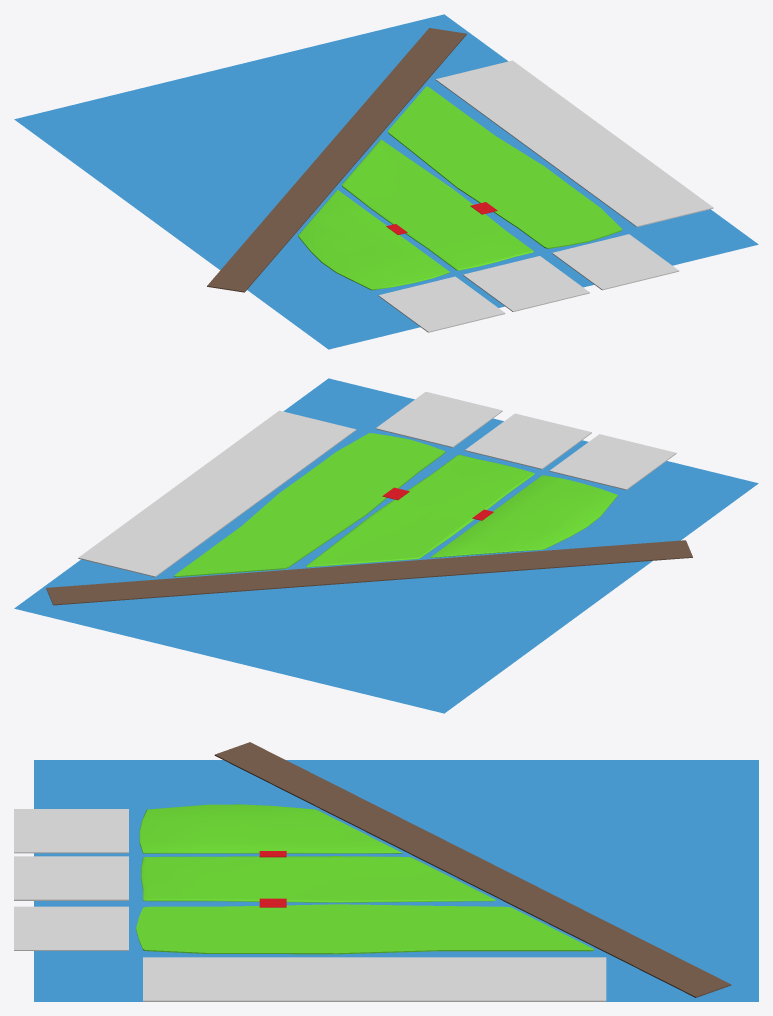
File: Polder_Map_V6.fbx
The picture shows the model from 3 angles, top to bottom: view 1: azimuth 30°, elevation 25°; view 2: azimuth 150°, elevation 25°; view 3: azimuth 270°, elevation 25°; orthographic projection. The views are drawn at different scales.
Parts seen in each view (by area): view 1: Water, Landje_03, Landje_03.004, Weg, Landje_03.002, Landje_03.003, Landje_03.001; view 2: Water, Landje_03, Landje_03.004, Weg, Landje_03.001, Landje_03.002, Landje_03.003; view 3: Water, Landje_03, Landje_03.004, Weg, Landje_03.003, Landje_03.001, Landje_03.002.
Part boxes in pixels (x1,y1,x2,y2): Water: (14,14,758,349); Landje_03: (298,86,622,290); Landje_03.004: (435,60,713,227); Weg: (207,28,466,292); Landje_03.002: (552,234,679,290); Landje_03.003: (378,276,505,332); Landje_03.001: (463,256,589,311); Water: (14,378,758,713); Landje_03: (174,433,617,577); Landje_03.004: (78,410,356,577); Weg: (46,540,692,605); Landje_03.001: (465,413,591,469); Landje_03.002: (375,392,502,447); Landje_03.003: (549,434,676,490); Water: (34,760,758,1001); Landje_03: (136,804,594,954); Landje_03.004: (143,957,606,1001); Weg: (214,742,731,997); Landje_03.003: (14,809,128,853); Landje_03.001: (14,856,128,900); Landje_03.002: (14,906,128,950).
Size of the model in its own units: 48053 by 348 by 58478.
